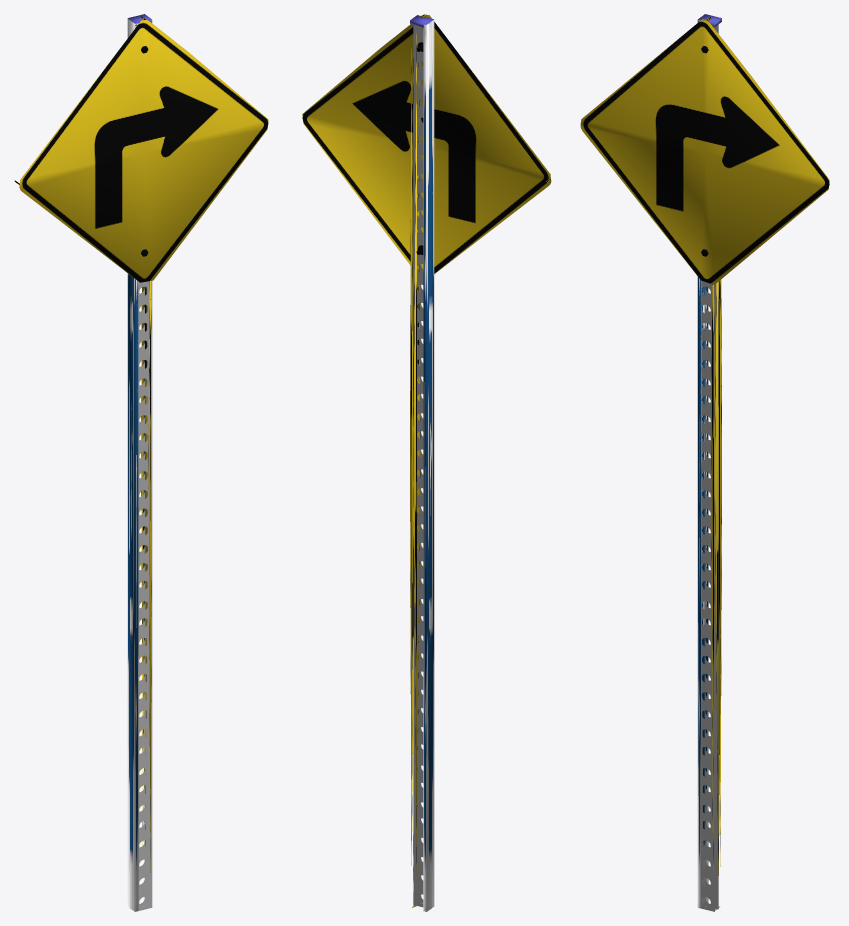
Rendered from Left TrafficSign.fbx.
The picture shows the model from 3 angles, left to right: view 1: azimuth 30°, elevation 25°; view 2: azimuth 150°, elevation 25°; view 3: azimuth 330°, elevation 25°; orthographic projection.
Parts seen in each view (by area): view 1: ChamferCyl001, Box002, Object002, Box001, Object003; view 2: ChamferCyl001, Box002, Object003, Box001, Object002; view 3: ChamferCyl001, Object002, Box001, Box002, Object003.
Part boxes in pixels (<box>): ChamferCyl001: <box>14,16,268,282</box>; Box002: <box>127,18,138,911</box>; Object002: <box>137,19,152,910</box>; Box001: <box>141,281,151,872</box>; Object003: <box>139,287,148,906</box>; ChamferCyl001: <box>302,14,551,279</box>; Box002: <box>423,20,434,911</box>; Object003: <box>413,25,423,907</box>; Box001: <box>410,33,420,907</box>; Object002: <box>417,26,423,903</box>; ChamferCyl001: <box>580,16,829,284</box>; Object002: <box>698,20,714,911</box>; Box001: <box>711,279,721,910</box>; Box002: <box>697,20,708,908</box>; Object003: <box>704,21,718,909</box>.
Size of the model in its own units: 8044 by 27400 by 521.
